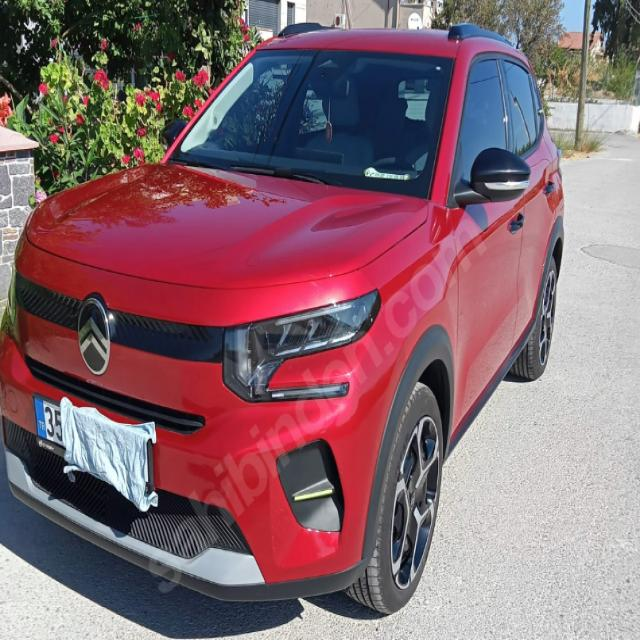citroen: (74, 290, 114, 377)
